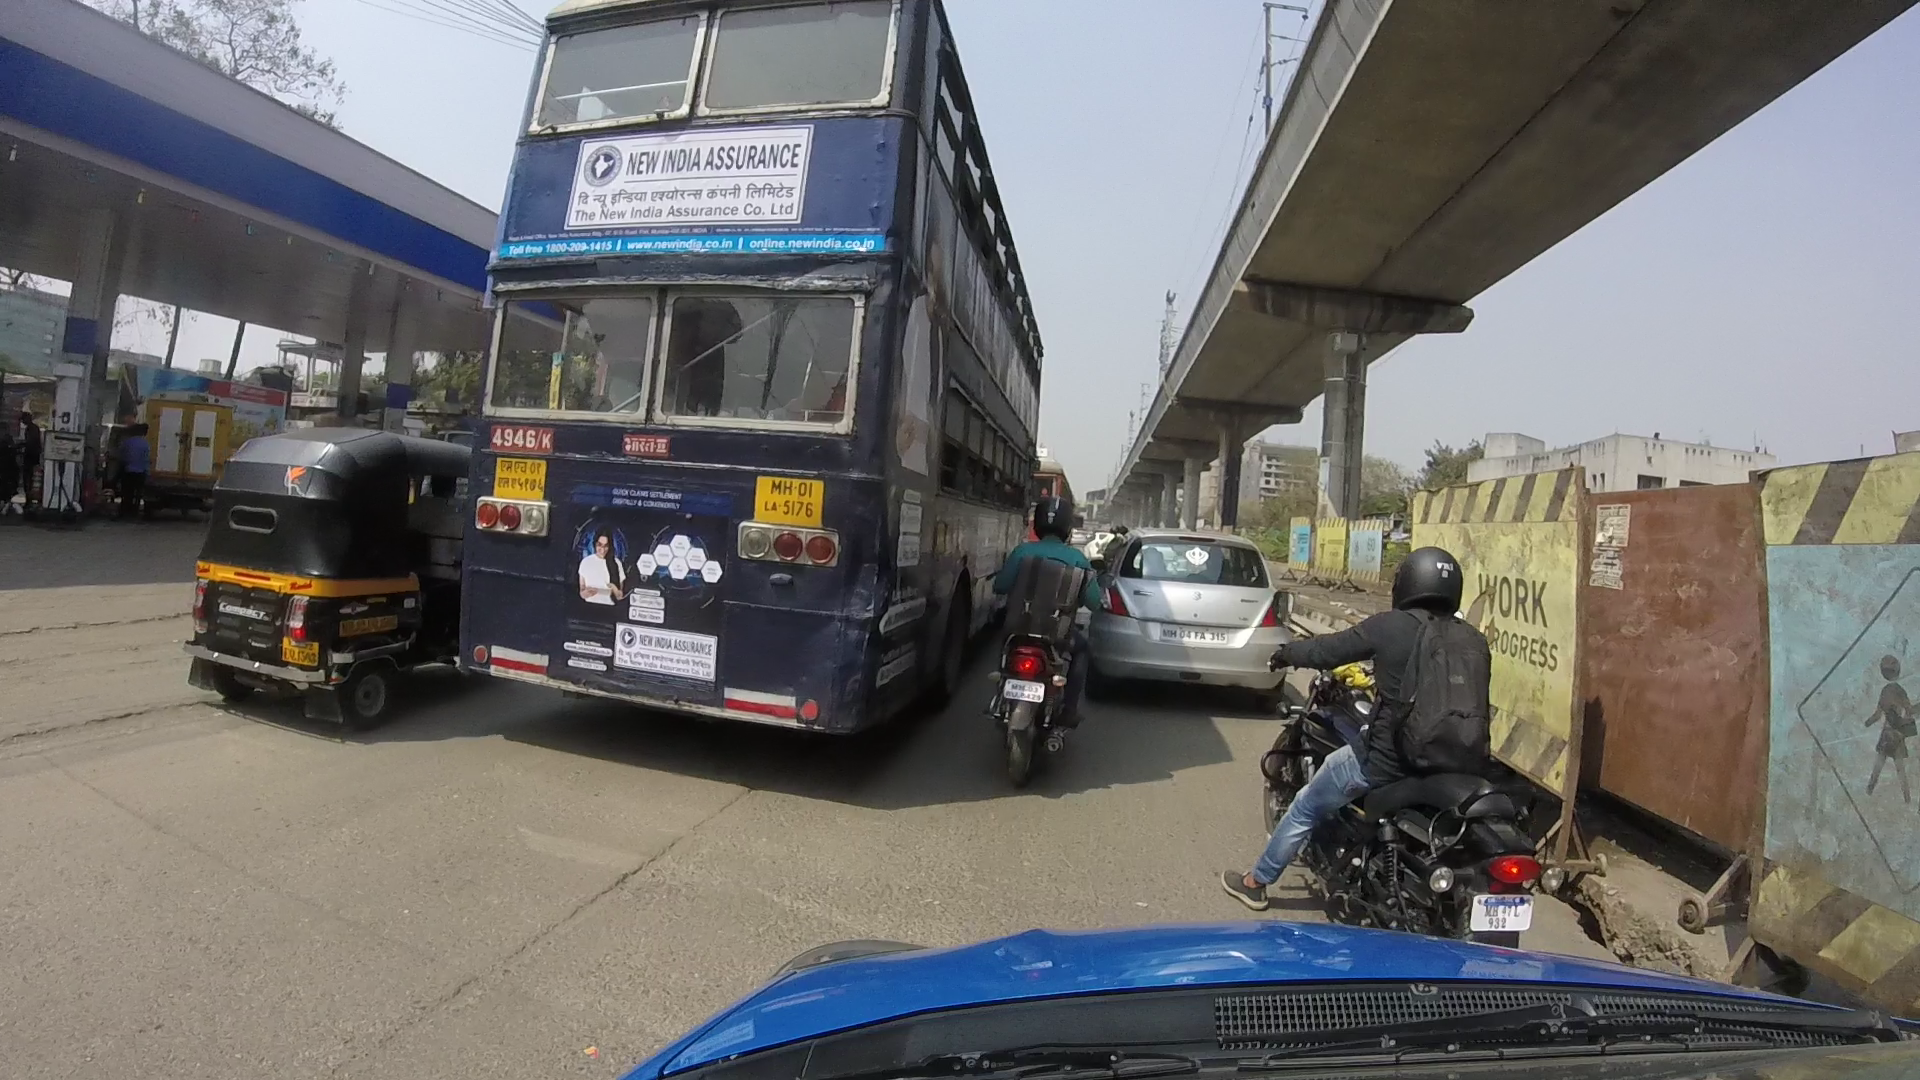bike/scooter: (1228, 549, 1572, 934)
bus: (491, 4, 1048, 748)
car: (1087, 524, 1308, 702)
rickshaw: (196, 430, 481, 738)
